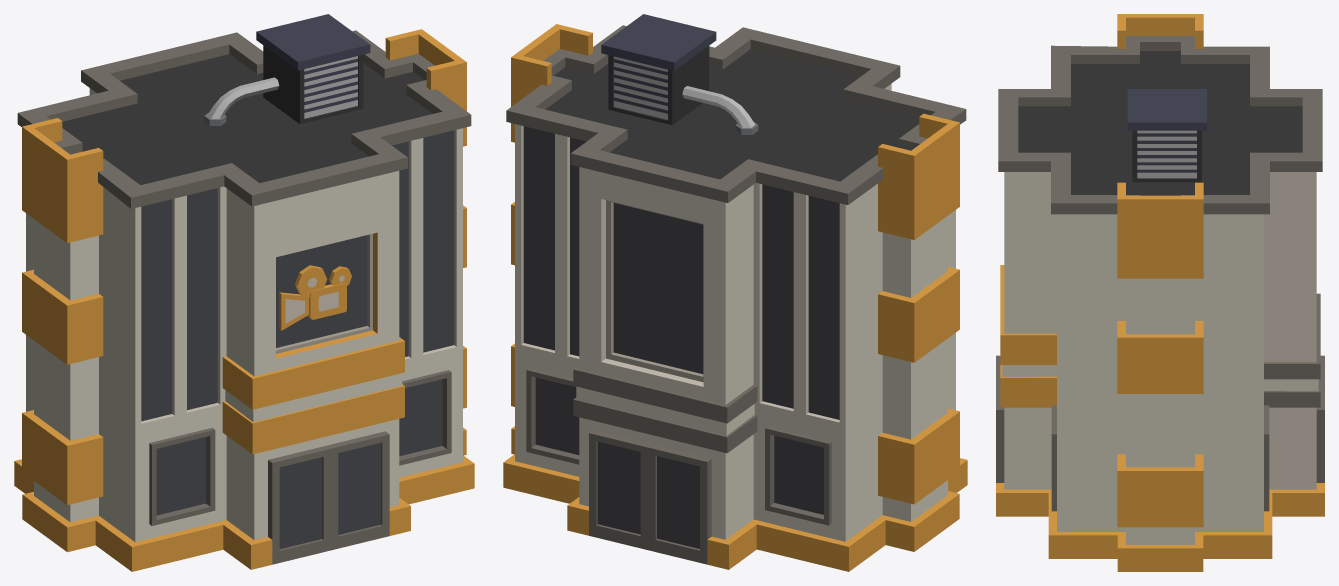
Rendered from cinema01_color03.fbx.
3 renders of one model, left to right at view 1: azimuth 30°, elevation 25°; view 2: azimuth 150°, elevation 25°; view 3: azimuth 270°, elevation 25°, orthographic. The views are drawn at different scales.
Parts seen in each view (by area): view 1: MainBody.002, Pipe.002; view 2: MainBody.002, Pipe.002; view 3: MainBody.002, Pipe.002.
Part boxes in pixels (box(x1,y1,x2,y2)): MainBody.002: box(14, 29, 474, 571); Pipe.002: box(204, 14, 370, 125); MainBody.002: box(503, 24, 967, 571); Pipe.002: box(601, 14, 758, 134); MainBody.002: box(996, 14, 1324, 571); Pipe.002: box(1127, 89, 1206, 182).
Bounding box in the file's own units: 1260 × 1291 × 945.
